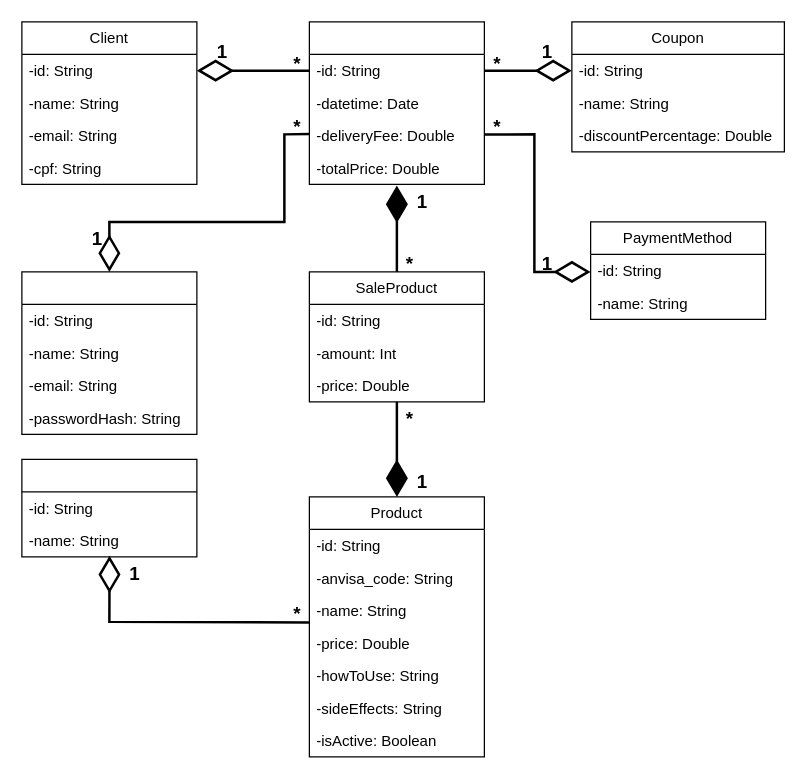
This 806x783 diagram has some shape labels left out. Here are the shapes that lost their labels. From the top down, the box of each, then its label:
(308, 21, 484, 184): Sale
(21, 271, 197, 434): Salesperson
(21, 458, 197, 557): Category
